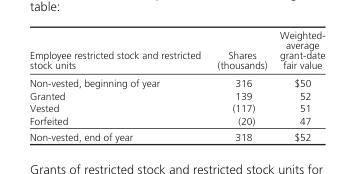table: (29, 28, 324, 142)
table column: (29, 28, 208, 142), (208, 28, 272, 142), (272, 28, 324, 142)
table column header: (29, 28, 324, 73)
table row: (29, 28, 324, 73), (29, 73, 324, 89), (29, 114, 324, 128), (29, 128, 324, 142), (29, 101, 324, 114), (29, 89, 324, 101)
